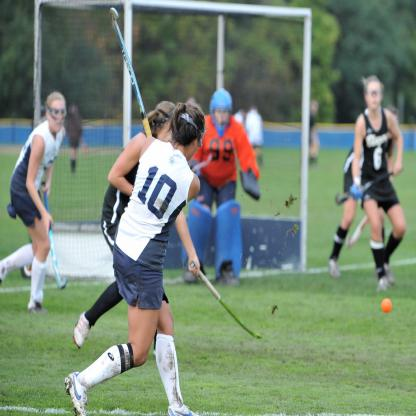Ball: (382, 298, 392, 312)
